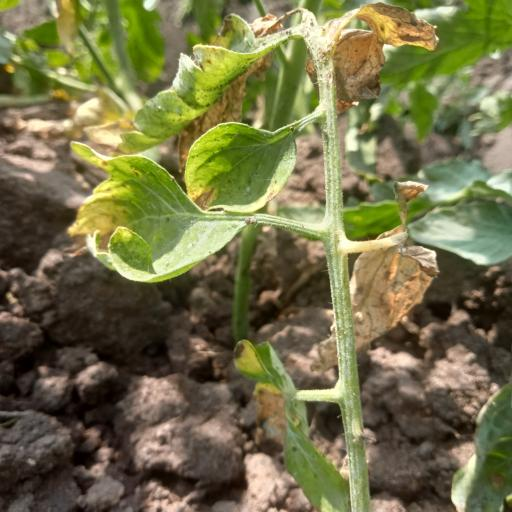Tomato_Brown_Spots: (61, 136, 257, 288), (114, 14, 296, 160), (189, 109, 324, 222)
